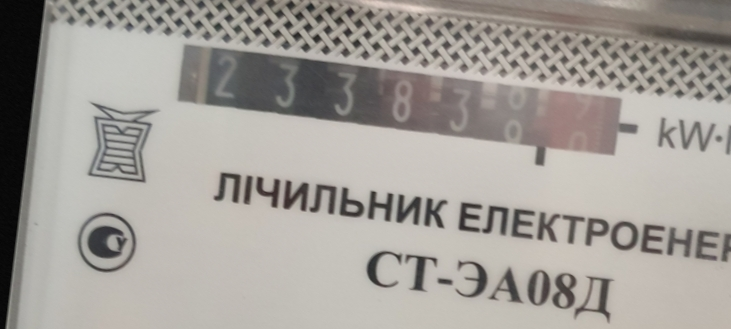0: (564, 125, 593, 153)
2: (209, 49, 242, 101)
3: (269, 58, 302, 111), (330, 67, 360, 120), (444, 83, 475, 134)
8: (387, 75, 417, 124), (502, 83, 532, 113)
9: (498, 114, 527, 146), (568, 90, 596, 121)
screen: (162, 31, 641, 178)
